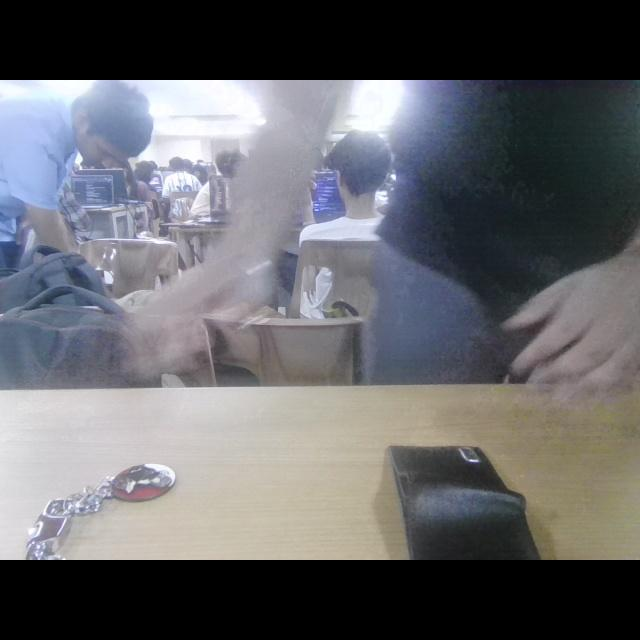keys: (12, 452, 192, 560)
wallet: (381, 424, 549, 560)
